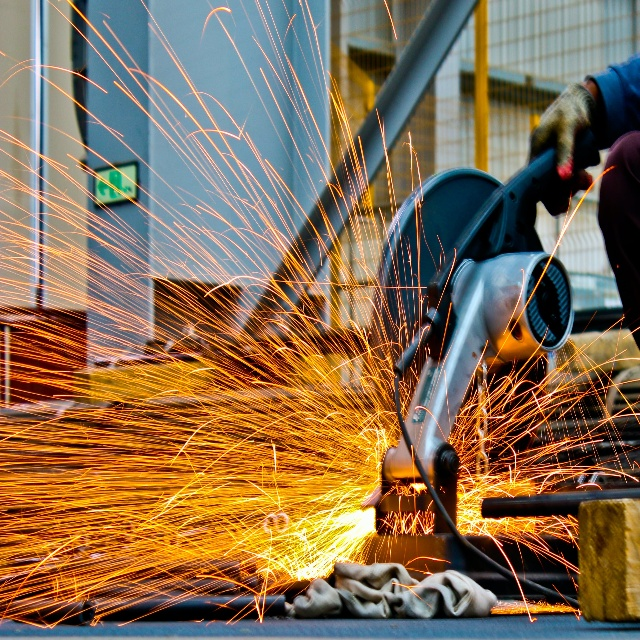Guantes: (528, 81, 598, 211)
